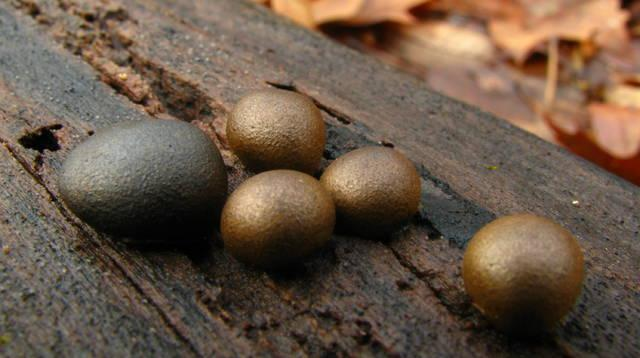poisonous_mushroom: (55, 116, 228, 241), (461, 212, 585, 337), (219, 168, 336, 268), (319, 144, 421, 235), (225, 86, 326, 172)
